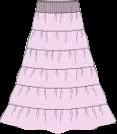Hemline: (0, 121, 116, 133)
Waistline: (9, 102, 107, 110), (15, 82, 99, 89), (21, 65, 94, 70), (25, 47, 89, 51), (31, 28, 84, 32), (35, 11, 80, 13), (37, 0, 78, 2)
